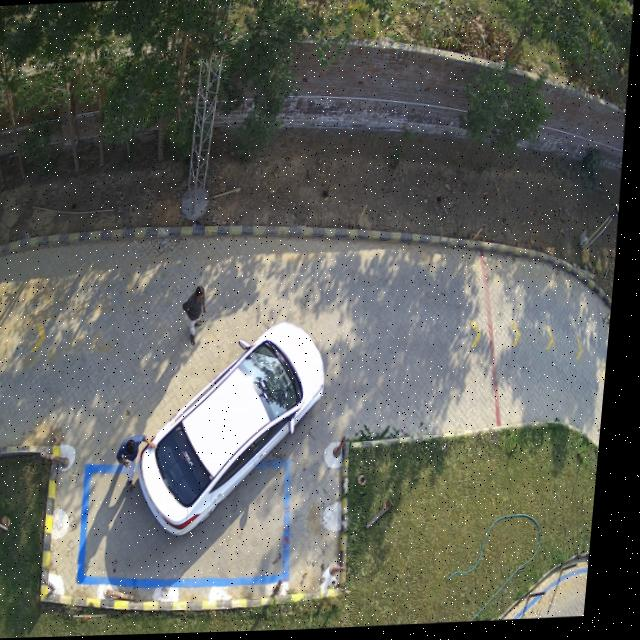car: (148, 323, 332, 536)
